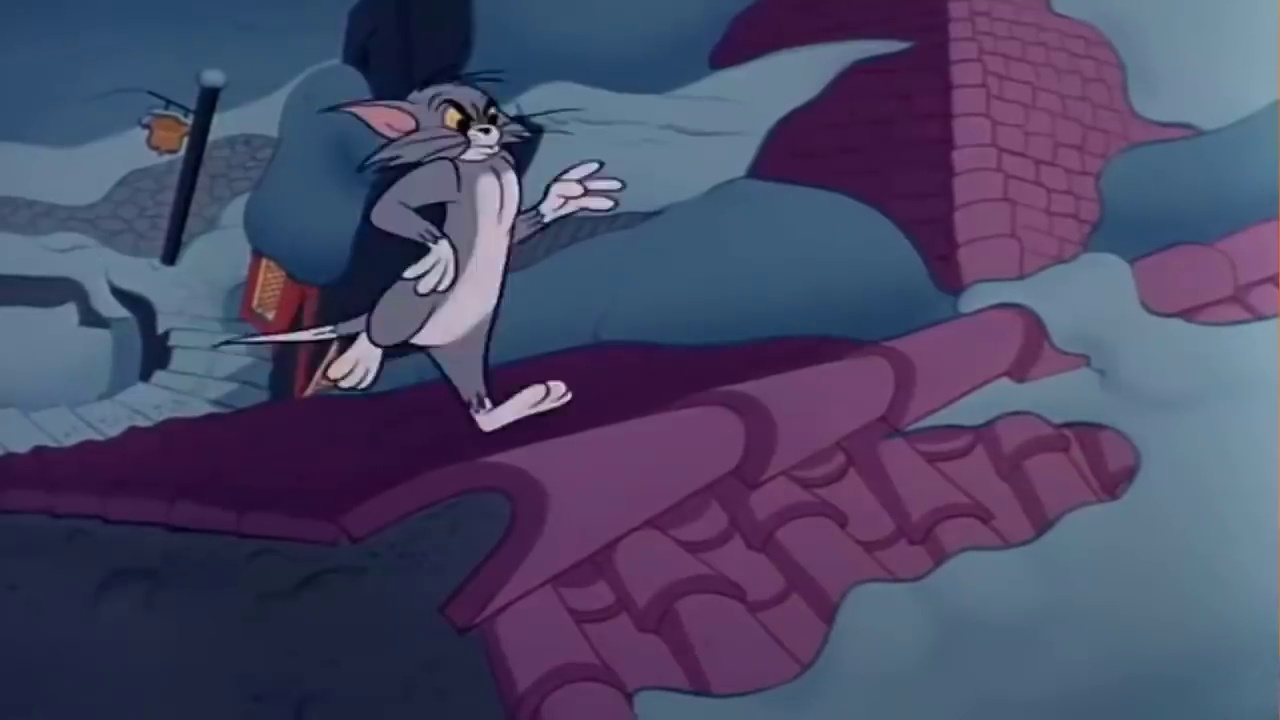face: (424, 86, 514, 166)
